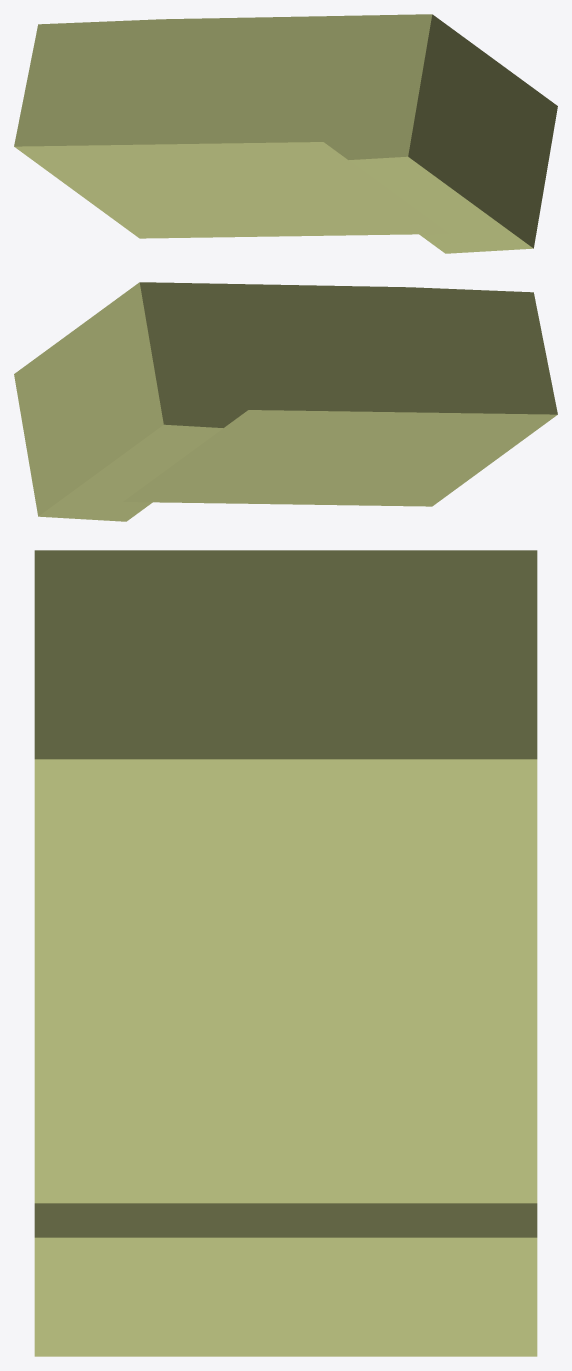
The picture shows the model from 3 angles, top to bottom: view 1: azimuth 30°, elevation 25°; view 2: azimuth 150°, elevation 25°; view 3: azimuth 270°, elevation 25°; orthographic projection. The views are drawn at different scales.
Parts seen in each view (by area): view 1: 0_3_0_2_1_2_1_2_0; view 2: 0_3_0_2_1_2_1_2_0; view 3: 0_3_0_2_1_2_1_2_0.
Part boxes in pixels (<box>): 0_3_0_2_1_2_1_2_0: <box>14,14,557,253</box>; 0_3_0_2_1_2_1_2_0: <box>14,282,557,521</box>; 0_3_0_2_1_2_1_2_0: <box>34,550,537,1356</box>.
Bounding box in the file's own units: 17.3 × 8.8 × 9.
